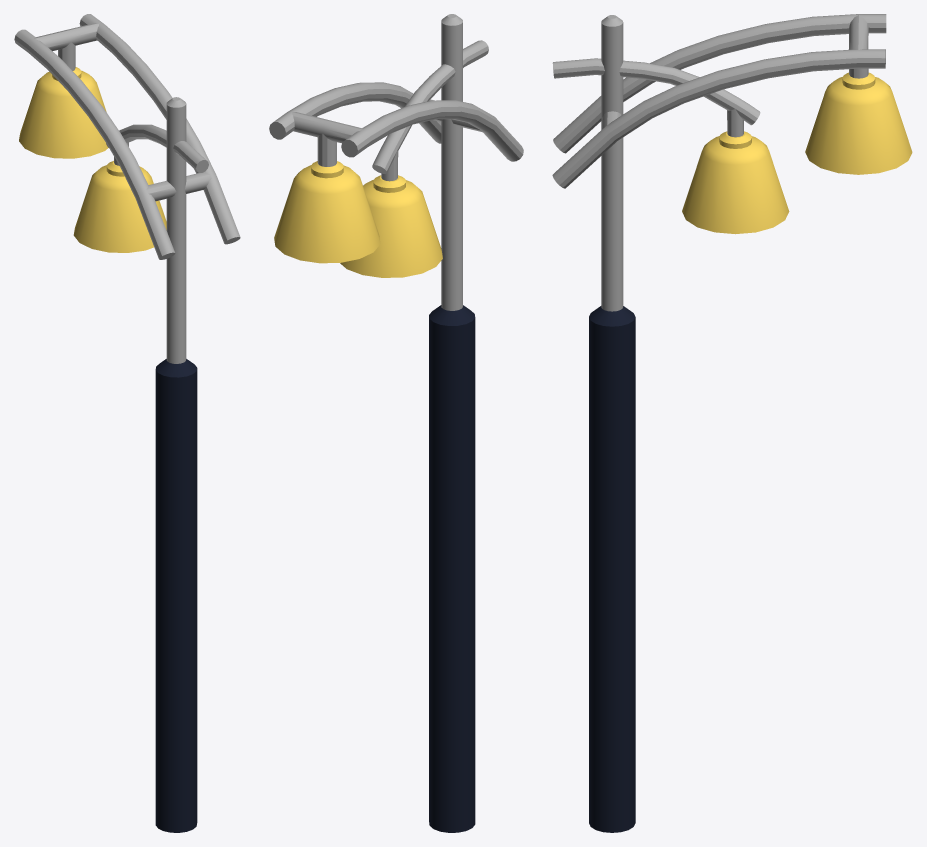
The model's file is LightPost1.fbx.
3 renders of one model, left to right at view 1: azimuth 30°, elevation 25°; view 2: azimuth 150°, elevation 25°; view 3: azimuth 270°, elevation 25°, orthographic. The views are drawn at different scales.
Visible parts, largest first — view 1: Big; view 2: Big; view 3: Big.
Part boxes in pixels (<box>): Big: <box>14,14,240,832</box>; Big: <box>269,14,523,832</box>; Big: <box>552,14,912,832</box>.
Bounding box in the file's own units: 77.82 × 640 × 259.
